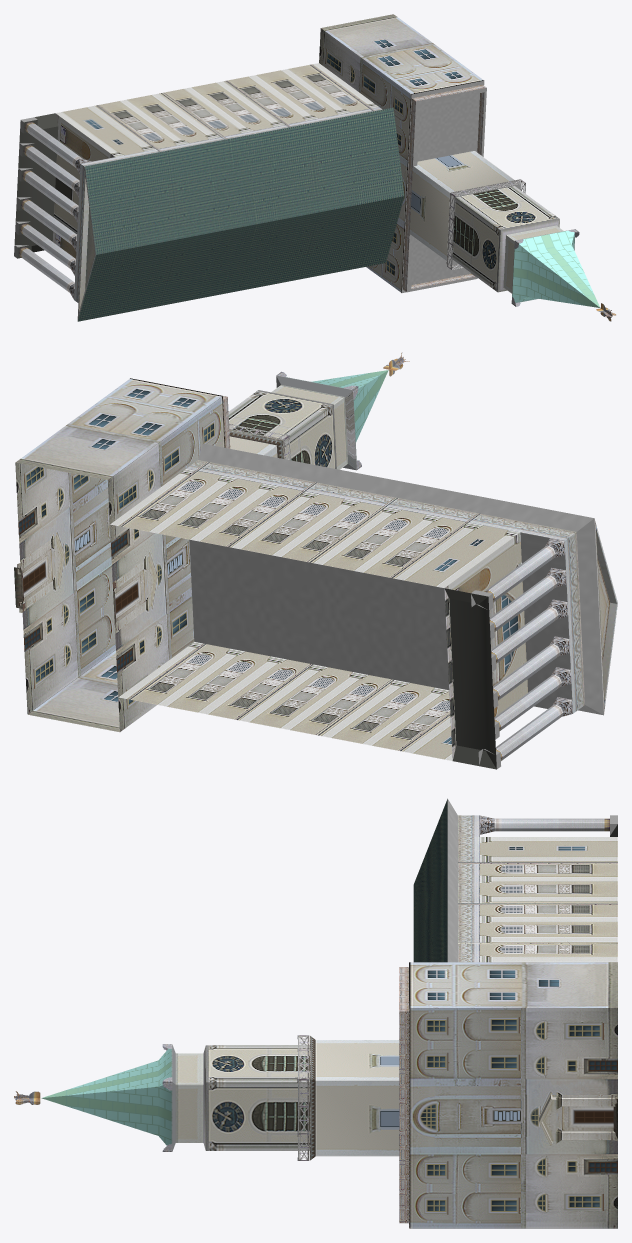
File: DEU_047_KARLSRUHE_EVANGEL_S.OBJ
3 views of the same model, one above another, from view 1: azimuth 30°, elevation 25°; view 2: azimuth 150°, elevation 25°; view 3: azimuth 270°, elevation 25° (orthographic). The views are drawn at different scales.
Visible parts, largest first — view 1: DEU_047_KARLSRUHE_EVANGEL_S001; view 2: DEU_047_KARLSRUHE_EVANGEL_S001; view 3: DEU_047_KARLSRUHE_EVANGEL_S001.
Boxes of the visible parts, x1,y1,x2,y2 form: DEU_047_KARLSRUHE_EVANGEL_S001: [14, 14, 616, 321]; DEU_047_KARLSRUHE_EVANGEL_S001: [14, 352, 617, 769]; DEU_047_KARLSRUHE_EVANGEL_S001: [14, 798, 617, 1228].
Bounding box in the file's own units: 60.02 × 29.24 × 69.44.
1 material, 1 textured.
